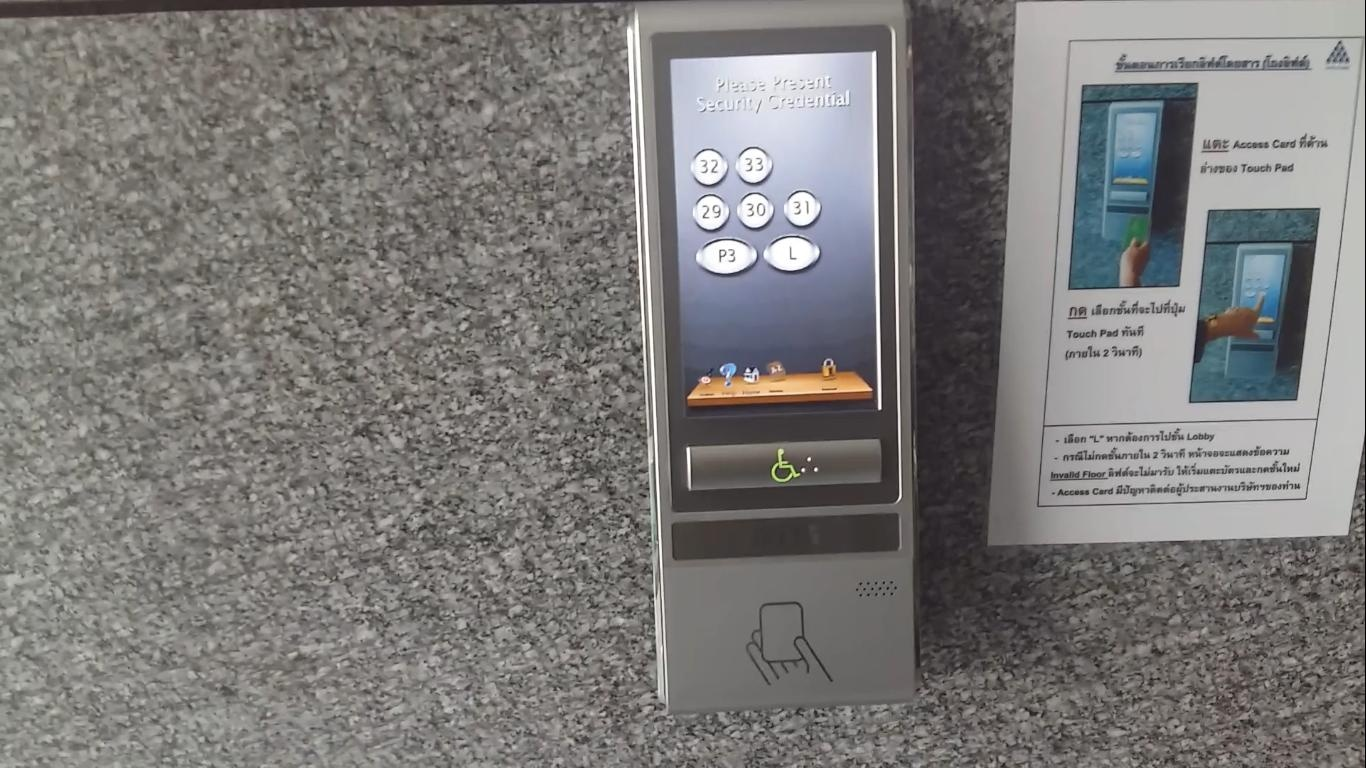29: (691, 191, 730, 232)
30: (735, 188, 777, 233)
31: (782, 186, 824, 230)
32: (690, 147, 727, 186)
33: (734, 144, 773, 185)
CH: (767, 443, 801, 485)
L: (762, 233, 825, 277)
P3: (695, 236, 761, 280)
speaker: (854, 577, 899, 599)
